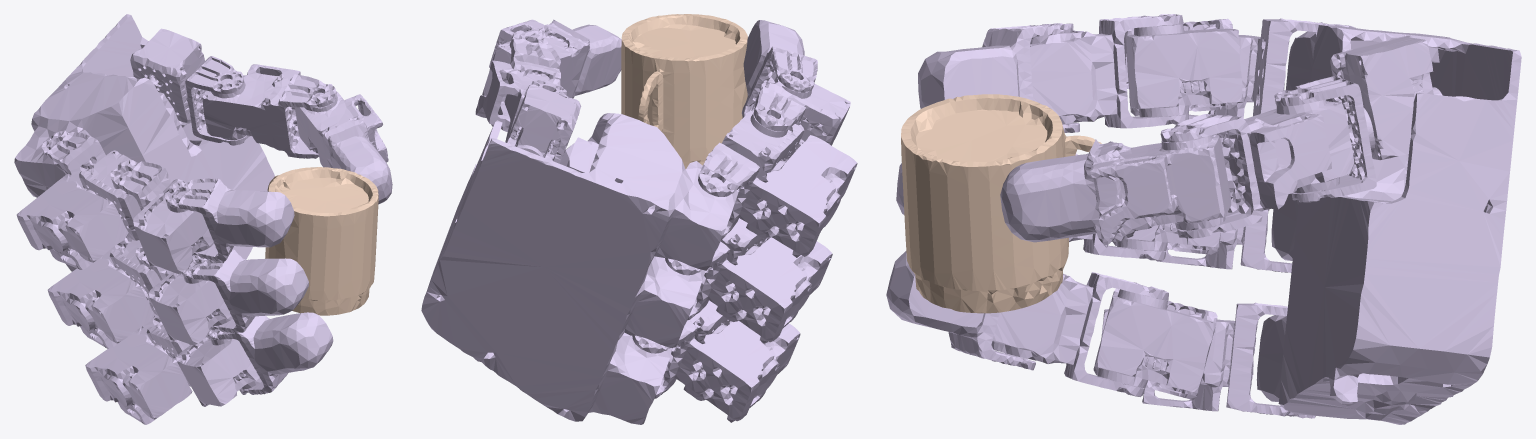
The model's file is b30d02559fb392-closed.glb.
The picture shows the model from 3 angles, left to right: view 1: azimuth 30°, elevation 25°; view 2: azimuth 150°, elevation 25°; view 3: azimuth 270°, elevation 25°; orthographic projection. The views are drawn at different scales.
Parts seen in each view (by area): view 1: LEAP_hand, world; view 2: LEAP_hand, world; view 3: LEAP_hand, world.
Boxes of the visible parts, left/top/right/bottom form: LEAP_hand: left=14, top=14, right=392, bottom=424; world: left=265, top=167, right=378, bottom=315; LEAP_hand: left=421, top=19, right=857, bottom=424; world: left=621, top=14, right=747, bottom=168; LEAP_hand: left=886, top=14, right=1521, bottom=424; world: left=901, top=94, right=1101, bottom=313.
Bounding box in the file's own units: 0.1726 × 0.1569 × 0.202.
